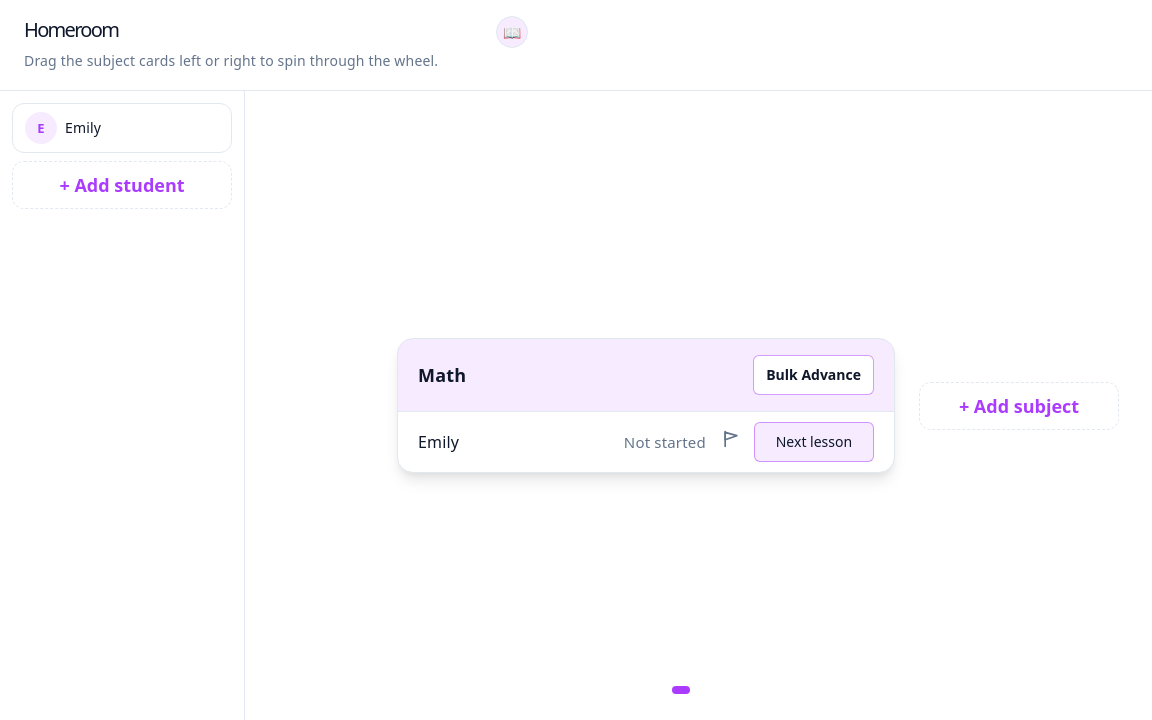
Scenario: ClassBoard › disables "Un-advance" in the context menu once a student is at {0, 0} "Not started"
This screenshot has width=1152, height=720.
Step 1. Right-click the text "Emily" next to "Not started" → (439, 442), box x1=418 y1=431 x2=459 y2=453
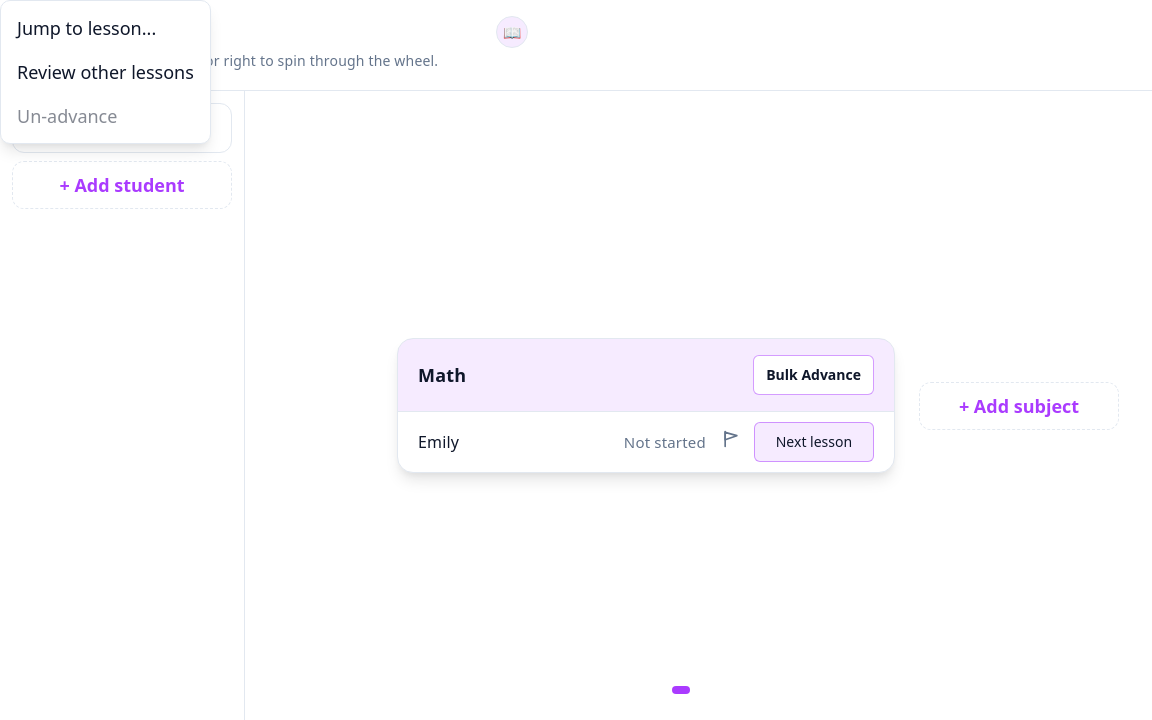
Check: the menu item "Un-advance" is disabled, box x1=7 y1=95 x2=204 y2=137
